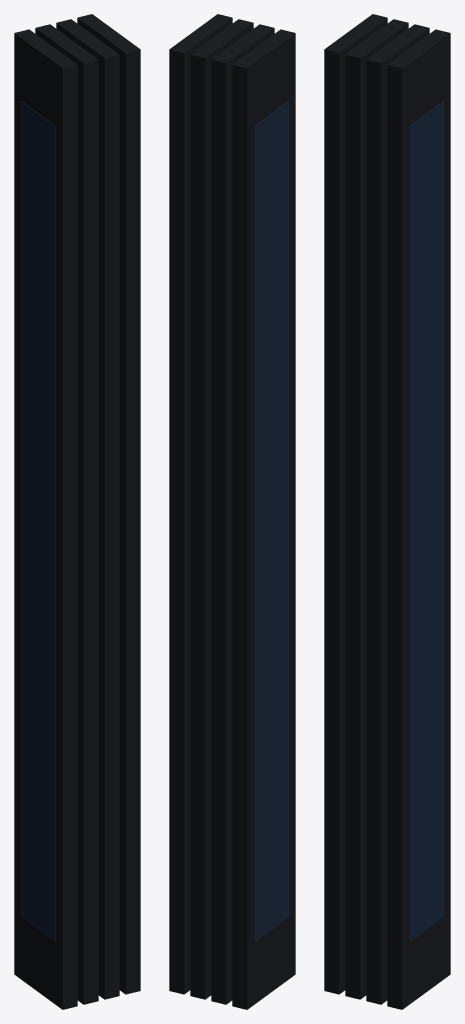
Rendered from hall_door_leaves.glb.
The picture shows the model from 3 angles, left to right: view 1: azimuth 30°, elevation 25°; view 2: azimuth 150°, elevation 25°; view 3: azimuth 330°, elevation 25°; orthographic projection.
Visible parts, largest first — view 1: leaves; view 2: leaves; view 3: leaves.
Part boxes in pixels (box(x1,y1,x2,y2)): leaves: box(14, 14, 140, 1009); leaves: box(169, 14, 295, 1009); leaves: box(324, 14, 450, 1009).
Bounding box in the file's own units: 0.264 × 3 × 0.28.
